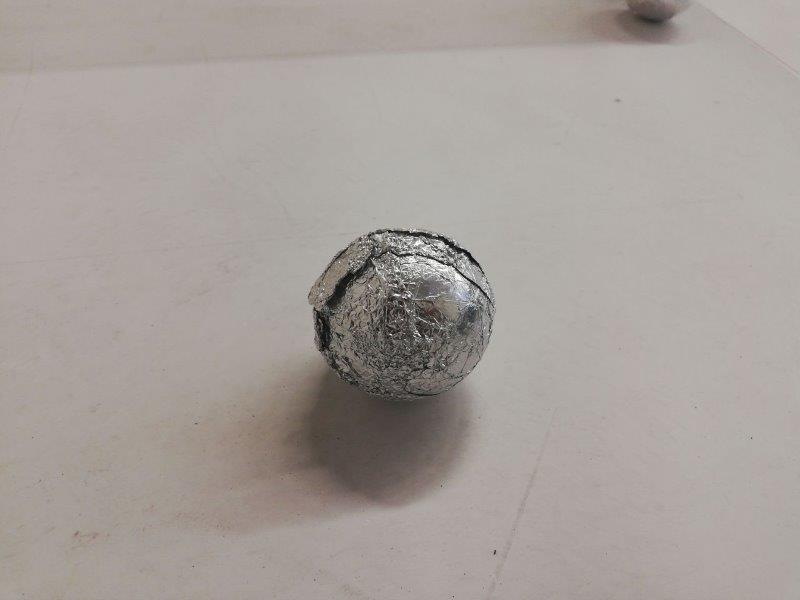bianca: (309, 226, 485, 395)
